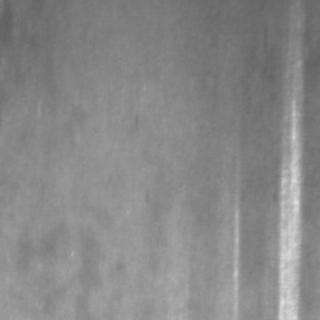scratches: (270, 81, 304, 316), (226, 179, 244, 315)
